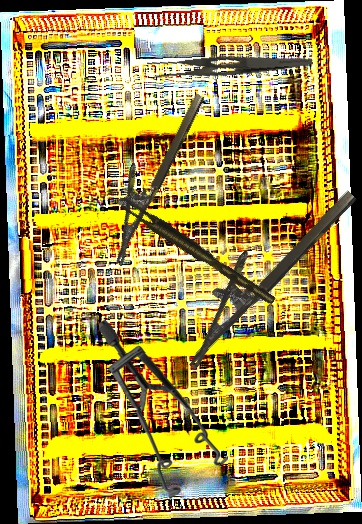Dressing Forceps: (147, 40, 313, 86)
Needle Holder: (160, 167, 359, 371), (88, 81, 207, 267)
Speculum: (95, 320, 231, 501)
Tissue Forceps: (118, 191, 276, 313)
